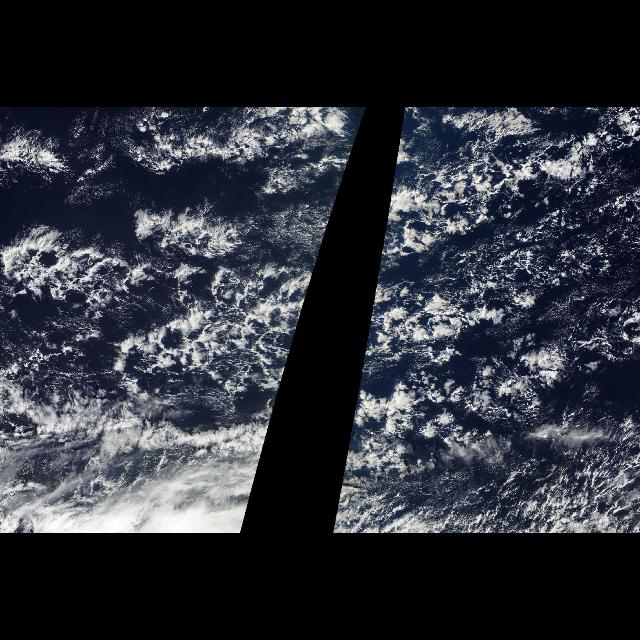Gravel: (8, 165, 348, 429), (349, 165, 637, 429)
